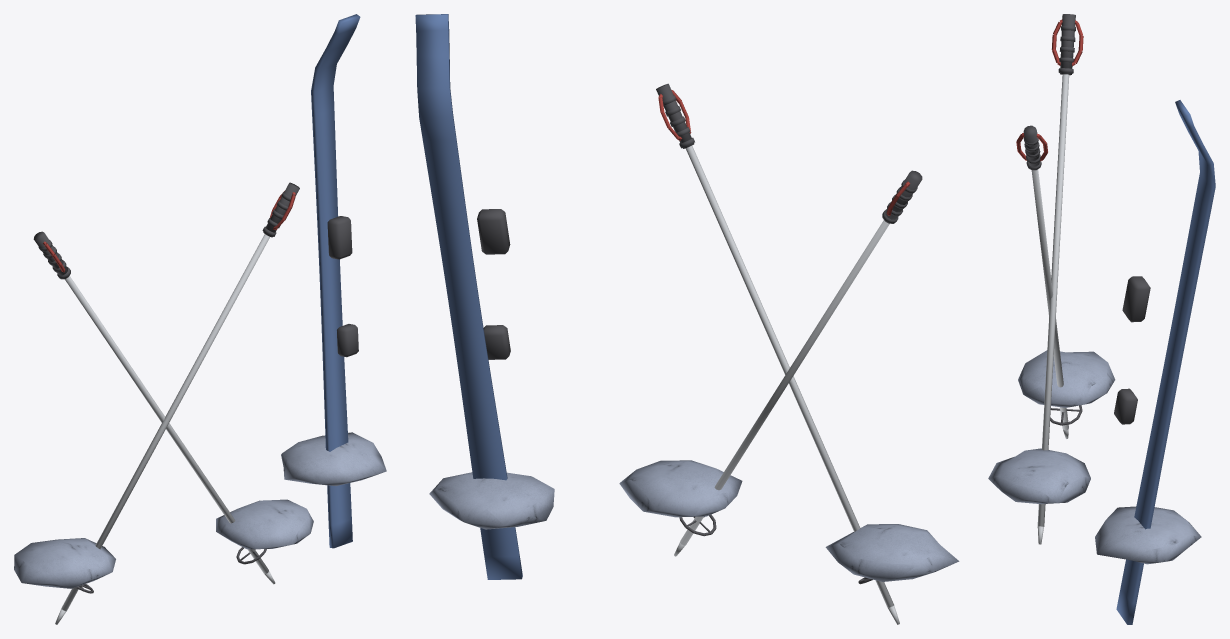
Rendered from ski_gear.glb.
The picture shows the model from 3 angles, left to right: view 1: azimuth 30°, elevation 25°; view 2: azimuth 150°, elevation 25°; view 3: azimuth 270°, elevation 25°; orthographic projection. The views are drawn at different scales.
Visible parts, largest first — view 1: SkiGear; view 2: SkiGear; view 3: SkiGear.
Boxes of the visible parts, x1,y1,x2,y2 form: SkiGear: [14, 14, 386, 624]; SkiGear: [415, 14, 959, 624]; SkiGear: [988, 14, 1215, 624].
Bounding box in the file's own units: 1.4 × 1.66 × 0.6426.
Materials: 6 (1 with a texture image).
